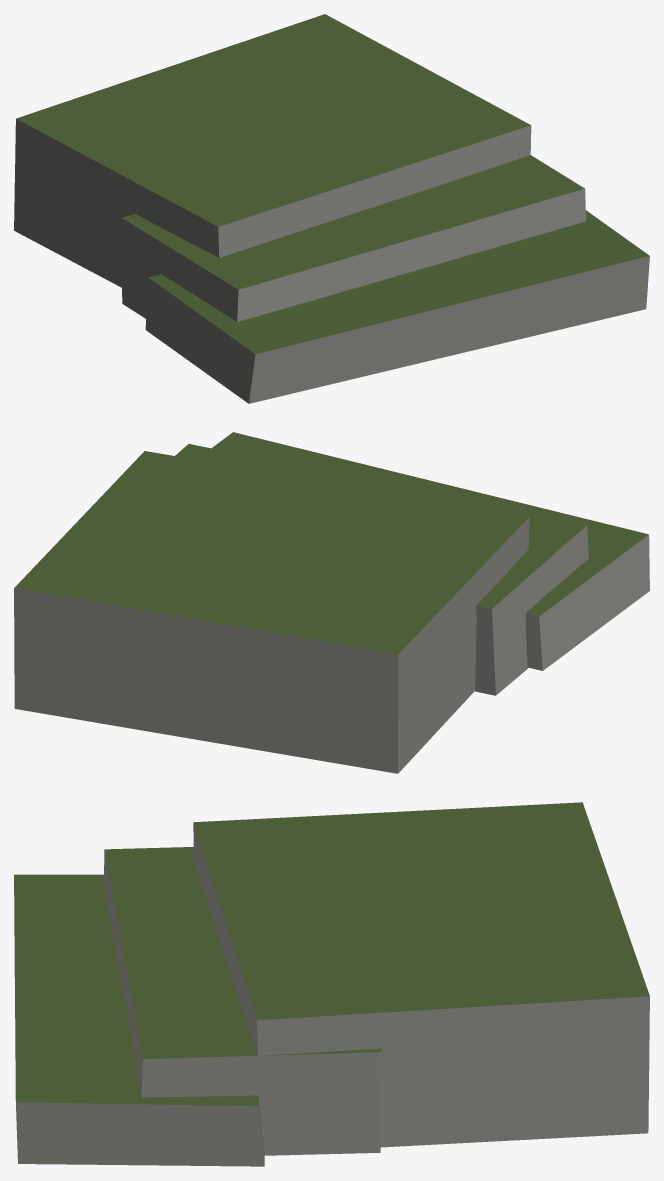
File: MakerThreshold.fbx
The picture shows the model from 3 angles, top to bottom: view 1: azimuth 30°, elevation 25°; view 2: azimuth 150°, elevation 25°; view 3: azimuth 270°, elevation 25°; orthographic projection. The views are drawn at different scales.
Visible parts, largest first — view 1: MakerThreshold; view 2: MakerThreshold; view 3: MakerThreshold.
Part boxes in pixels (bbox=[...]): MakerThreshold: bbox=[14, 14, 649, 403]; MakerThreshold: bbox=[14, 432, 649, 773]; MakerThreshold: bbox=[14, 802, 649, 1166].
Size of the model in its own units: 2.03 by 0.5602 by 2.34.
